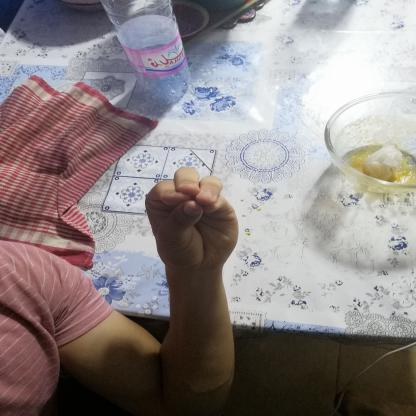HA: (126, 156, 257, 288)
